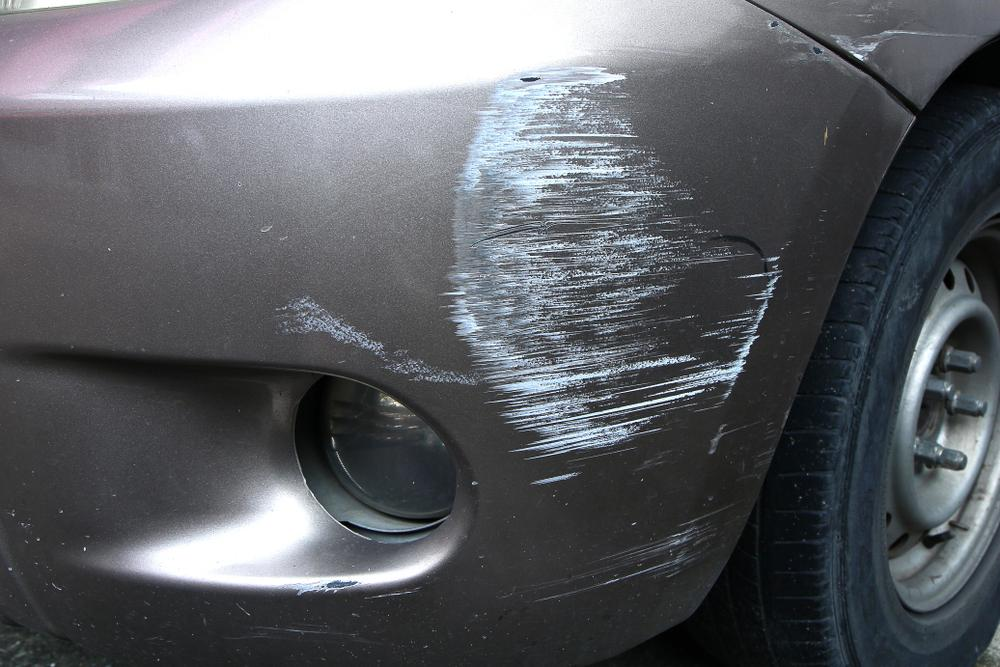scratch: (258, 57, 799, 600), (259, 574, 439, 639), (839, 0, 983, 59), (769, 20, 853, 81)
